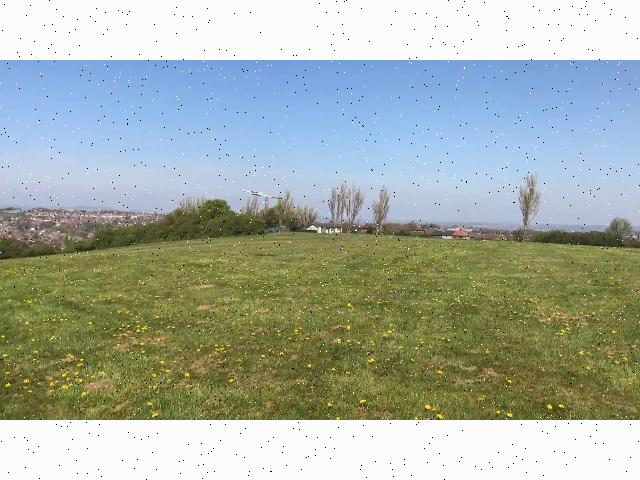Anti-Drone: (237, 183, 285, 213)
